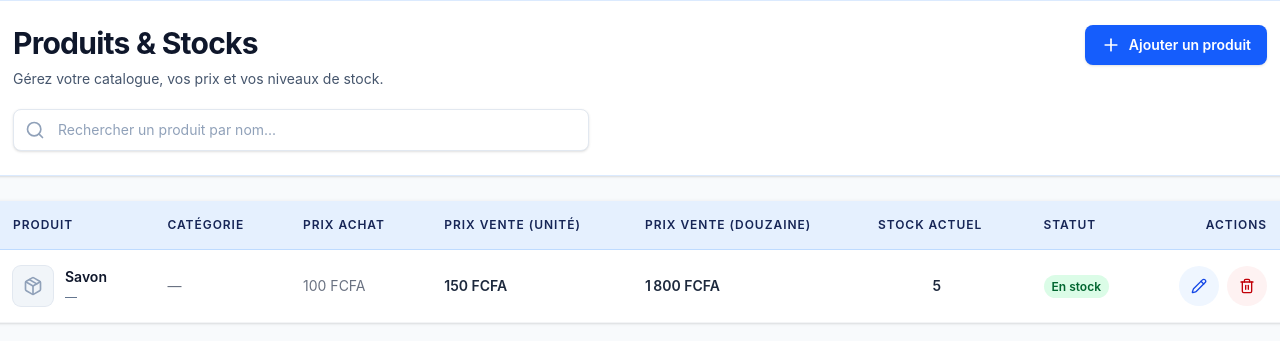
Scenario: Produits : modification et suppression refusées après l’expiration › suppression : message en haut, sans alert(), liste non rechargée
Click the button named "Supprimer le produit Savon".
click(1247, 286)  # box [1227,266,1267,306]
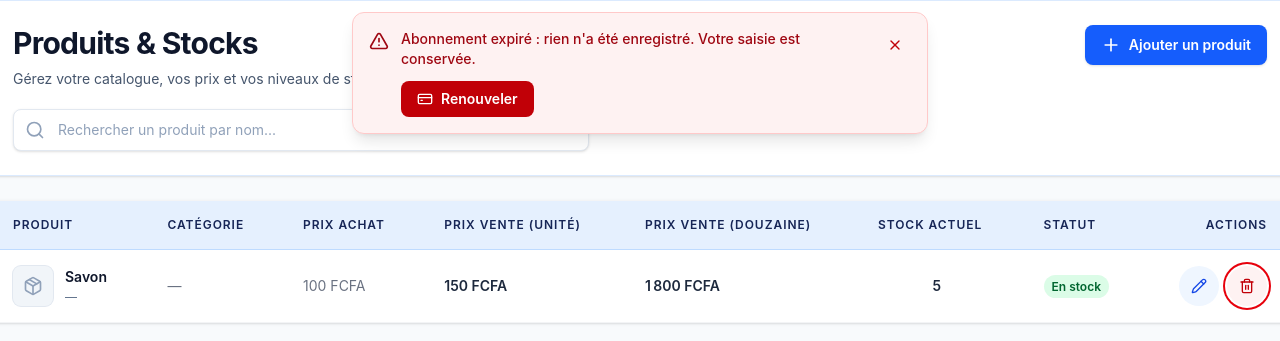
Now the message shows "Abonnement expiré : rien n'a été enregistré. Votre saisie est conservée.", box [401,30,800,67]
